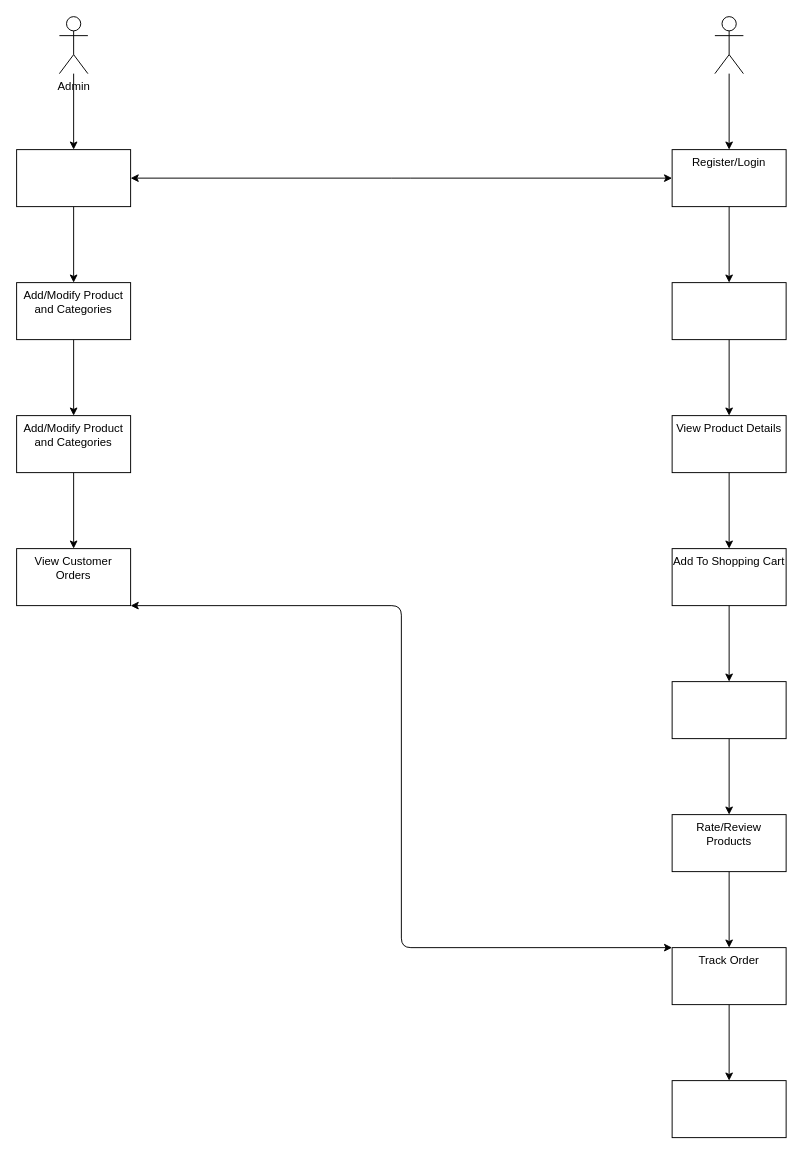
Image size: 803x1154. Some labels were removed from this diagram. Each missing label, with the centre of its shape:
"Browse/Search Products" goes at pixel 728 311.
"Cancel Order" goes at pixel 728 1109.
"Checkout" goes at pixel 728 710.
"Customer" goes at pixel 728 45.
"Manage User Accounts" goes at pixel 73 178.
